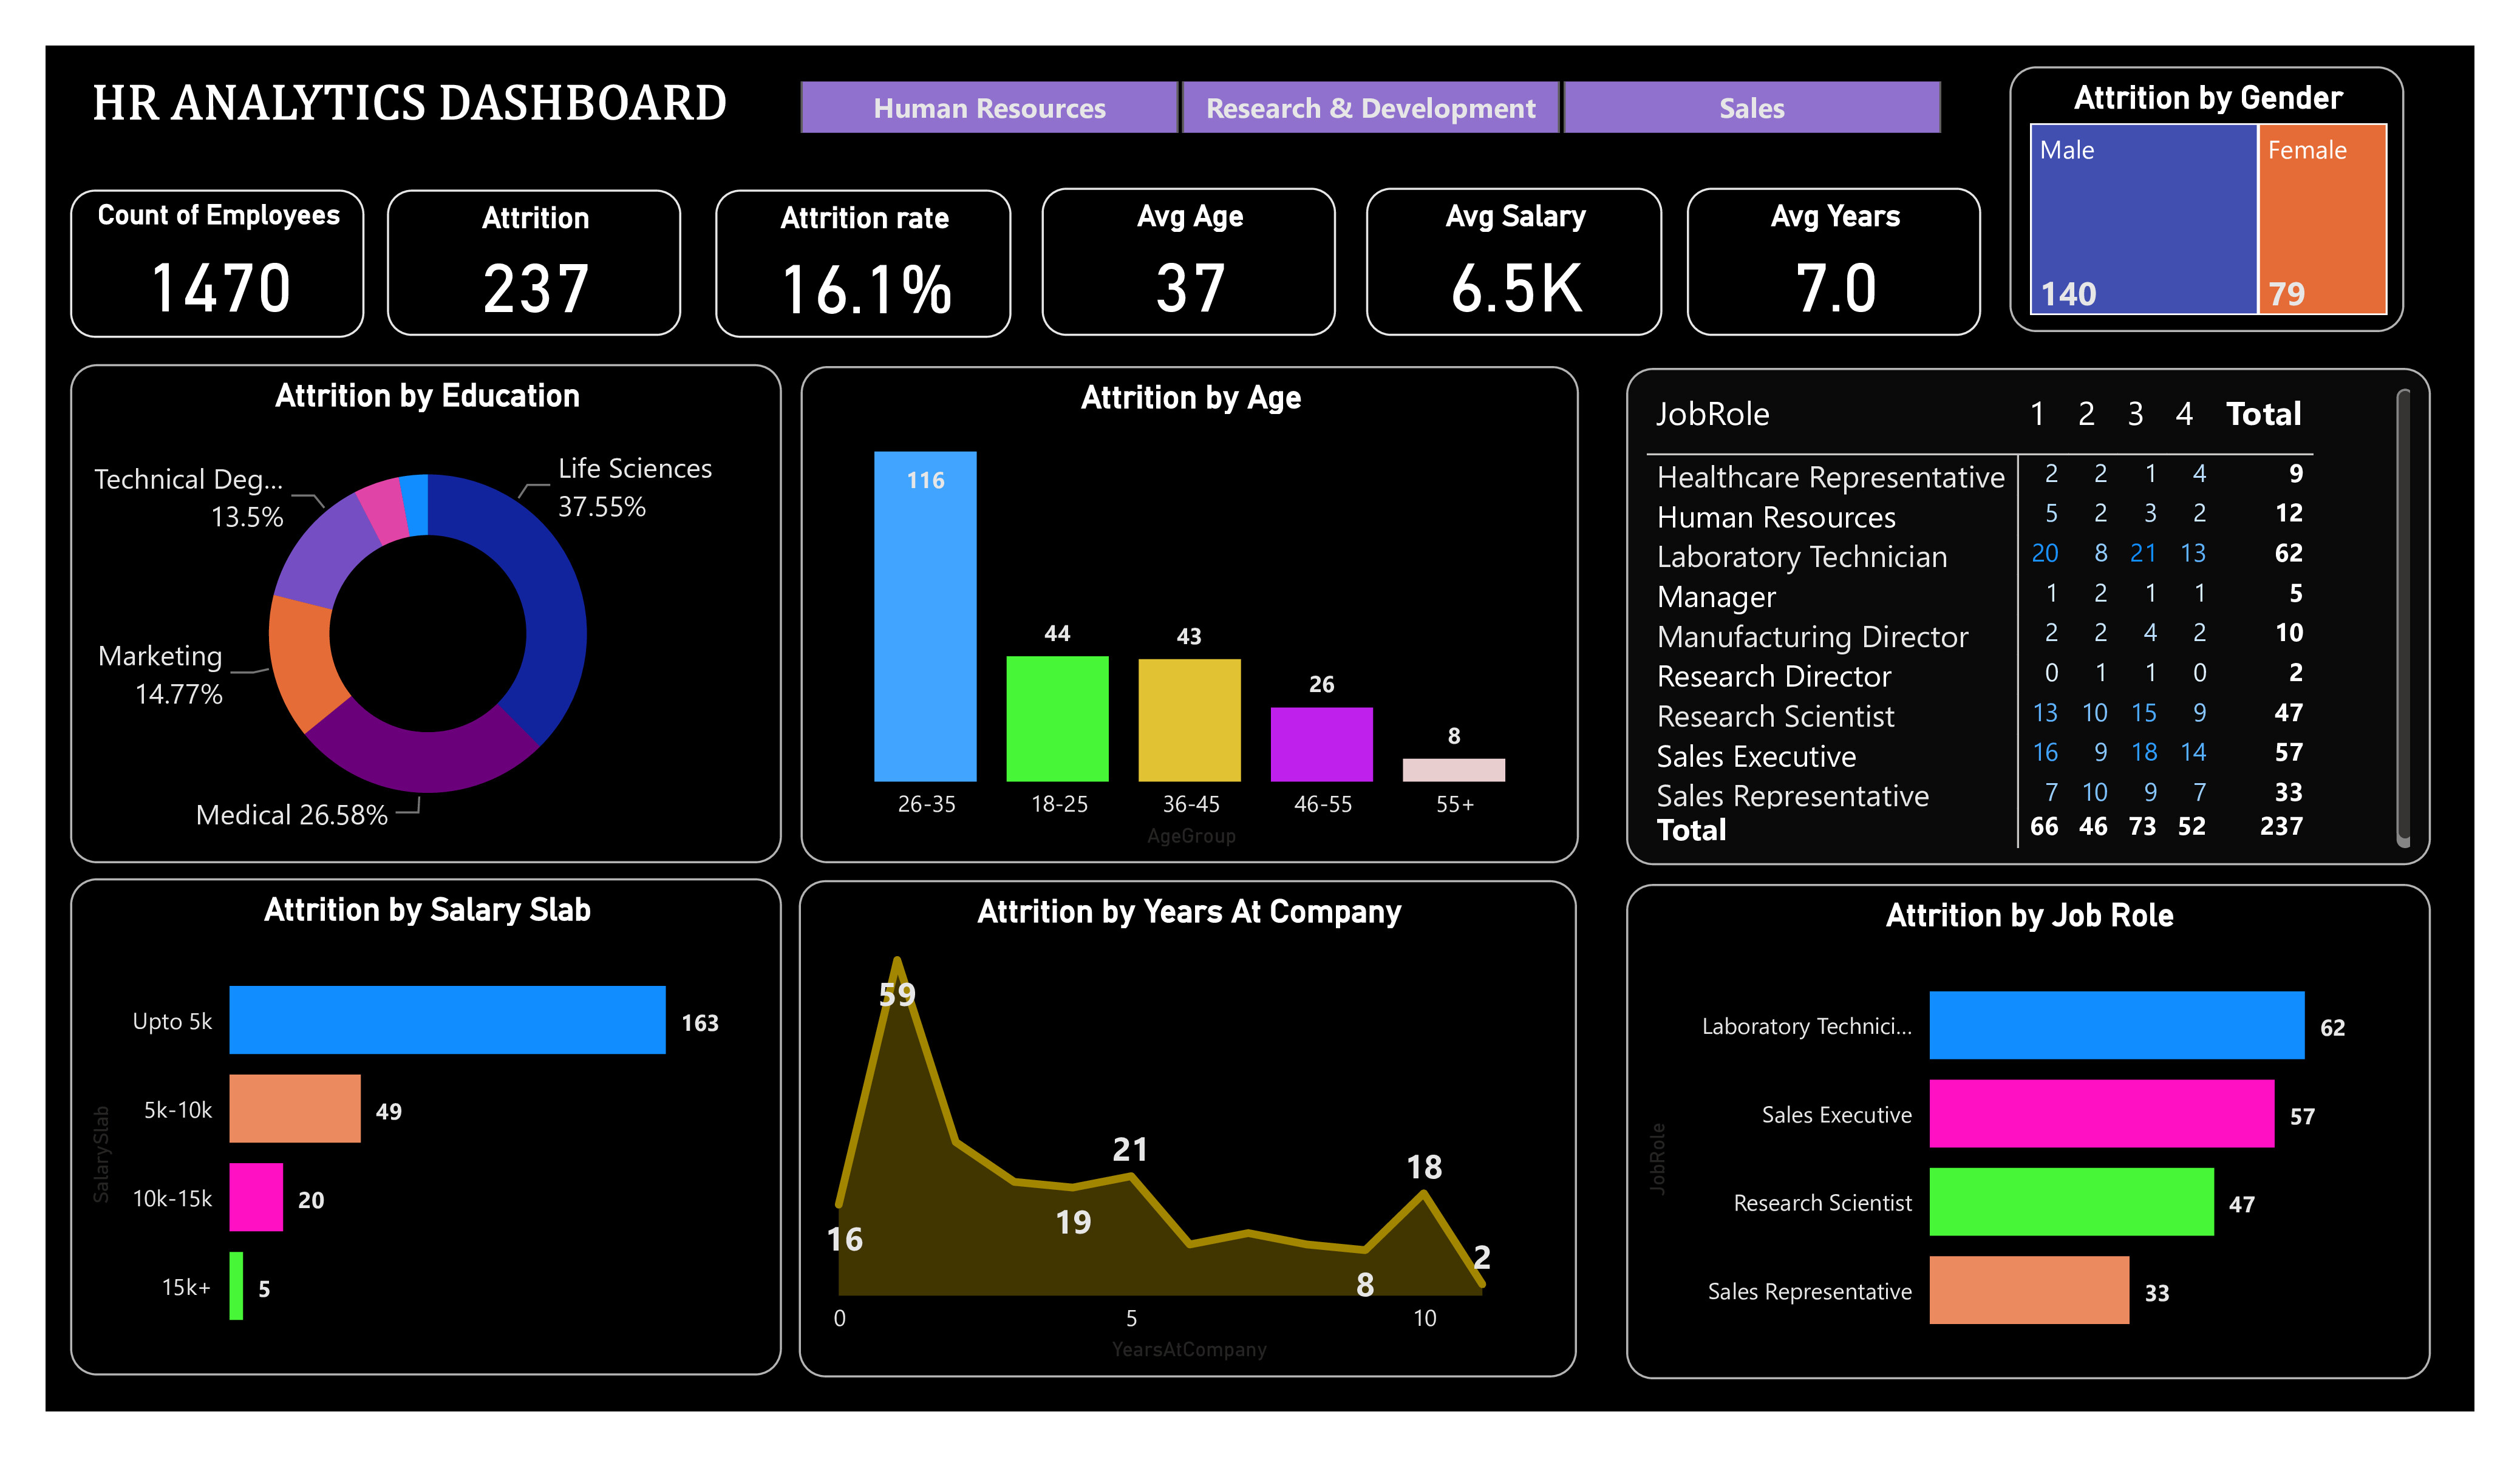

This screenshot's page, from the dashboard's own definition file:
{"tool":"powerbi","page":{"name":"Page 1","canvas":[1280,720],"ordinal":0},"visuals":[{"type":"card","title":"Count of Employees","fields":{"Values":["CountNonNull(HR_Analytics.EmpID)"]},"box":[12.7,75.8,155.8,77.9],"z":0},{"type":"card","title":"Attrition","fields":{"Values":["Sum(HR_Analytics.Attrition_Count)"]},"box":[179.6,76.3,155.8,76.3],"z":1000},{"type":"card","title":"Attrition rate","fields":{"Values":["HR_Analytics.Attrition_Rate"]},"box":[352.8,76.3,155.8,77.9],"z":2000},{"type":"card","title":"Avg Age","fields":{"Values":["Avg(HR_Analytics.Age)"]},"box":[524.5,74.7,155.8,77.9],"z":3000},{"type":"card","title":"Avg Salary","fields":{"Values":["Avg(HR_Analytics.MonthlyIncome)"]},"box":[696.2,74.7,155.8,77.9],"z":4000},{"type":"card","title":"Avg Years","fields":{"Values":["Avg(HR_Analytics.YearsAtCompany)"]},"box":[864.6,74.7,155.8,77.9],"z":5000},{"type":"donutChart","title":"Attrition by Education","fields":{"Category":["HR_Analytics.EducationField"],"Y":["Sum(HR_Analytics.Attrition_Count)"]},"box":[12.7,168.5,375.1,262.3],"z":6000},{"type":"columnChart","title":"Attrition by Age","fields":{"Category":["HR_Analytics.AgeGroup"],"Y":["Sum(HR_Analytics.Attrition_Count)"]},"box":[398.3,169.3,410,261.7],"z":7000},{"type":"pivotTable","fields":{"Rows":["HR_Analytics.JobRole"],"Columns":["HR_Analytics.JobSatisfaction"],"Values":["Sum(HR_Analytics.Attrition_Count)"]},"box":[833.3,170,423.3,261.7],"z":8000},{"type":"barChart","title":"Attrition by Salary Slab","fields":{"Category":["HR_Analytics.SalarySlab"],"Y":["Sum(HR_Analytics.Attrition_Count)"]},"box":[13.3,439.3,375,261.7],"z":9000},{"type":"barChart","title":"Attrition by Job Role","fields":{"Category":["HR_Analytics.JobRole"],"Y":["Sum(HR_Analytics.Attrition_Count)"]},"box":[833.3,441.7,423.3,261.7],"z":10000},{"type":"areaChart","title":"Attrition by Years At Company","fields":{"Category":["HR_Analytics.YearsAtCompany"],"Y":["Sum(HR_Analytics.Attrition_Count)"]},"box":[396.7,440,410,261.7],"z":11000},{"type":"treemap","title":"Attrition by Gender","fields":{"Values":["Sum(HR_Analytics.Attrition_Count)"],"Group":["HR_Analytics.Gender"]},"box":[1035,11,208.3,140],"z":12000},{"type":"slicer","fields":{"Values":["HR_Analytics.Department"]},"box":[371.7,11.7,651.7,41.7],"z":13000},{"type":"textbox","box":[11.7,11,360,51.7],"z":14000}]}

Visuals, with their boxes in screenshot pixels (x1, y1, x2, y2):
"Count of Employees" card: <bbox>70, 189, 366, 337</bbox>
"Attrition" card: <bbox>386, 190, 682, 335</bbox>
"Attrition rate" card: <bbox>715, 190, 1010, 338</bbox>
"Avg Age" card: <bbox>1041, 187, 1337, 335</bbox>
"Avg Salary" card: <bbox>1367, 187, 1663, 335</bbox>
"Avg Years" card: <bbox>1686, 187, 1982, 335</bbox>
"Attrition by Education" donutChart: <bbox>70, 365, 782, 863</bbox>
"Attrition by Age" columnChart: <bbox>802, 367, 1579, 863</bbox>
pivotTable - HR_Analytics.JobRole x HR_Analytics.JobSatisfaction: <bbox>1627, 368, 2430, 864</bbox>
"Attrition by Salary Slab" barChart: <bbox>71, 879, 782, 1376</bbox>
"Attrition by Job Role" barChart: <bbox>1627, 883, 2430, 1380</bbox>
"Attrition by Years At Company" areaChart: <bbox>799, 880, 1576, 1377</bbox>
"Attrition by Gender" treemap: <bbox>2009, 66, 2405, 332</bbox>
slicer - HR_Analytics.Department: <bbox>751, 68, 1987, 147</bbox>
textbox: <bbox>68, 66, 751, 165</bbox>
